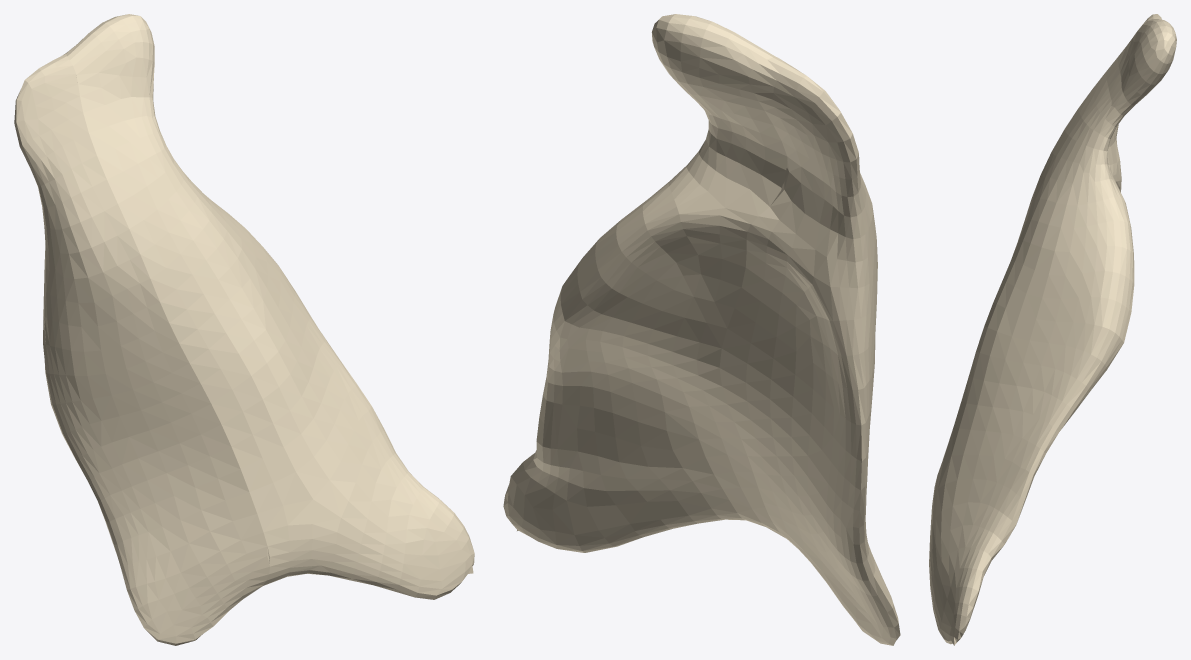
Rendered from VH_F_Thymus_0.8.glb.
3 renders of one model, left to right at view 1: azimuth 30°, elevation 25°; view 2: azimuth 150°, elevation 25°; view 3: azimuth 270°, elevation 25°, orthographic. The views are drawn at different scales.
Visible parts, largest first — view 1: VH_F_thymus_lobe_L, VH_F_thymus_lobe_R; view 2: VH_F_thymus_lobe_L, VH_F_thymus_lobe_R; view 3: VH_F_thymus_lobe_L, VH_F_thymus_lobe_R.
Part boxes in pixels (bbox=[...]): VH_F_thymus_lobe_L: bbox=[66, 14, 474, 599]; VH_F_thymus_lobe_R: bbox=[14, 53, 269, 645]; VH_F_thymus_lobe_L: bbox=[503, 14, 787, 552]; VH_F_thymus_lobe_R: bbox=[719, 57, 900, 645]; VH_F_thymus_lobe_L: bbox=[929, 19, 1176, 645]; VH_F_thymus_lobe_R: bbox=[1107, 14, 1161, 192].
Size of the model in its own units: 0.086 by 0.1236 by 0.0538.
